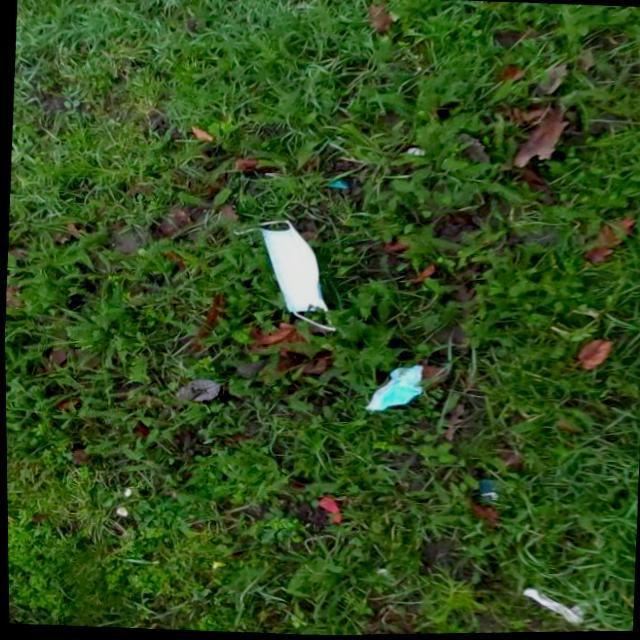Mask: (225, 217, 340, 335)
Plastic: (361, 363, 422, 415), (517, 588, 584, 626)
